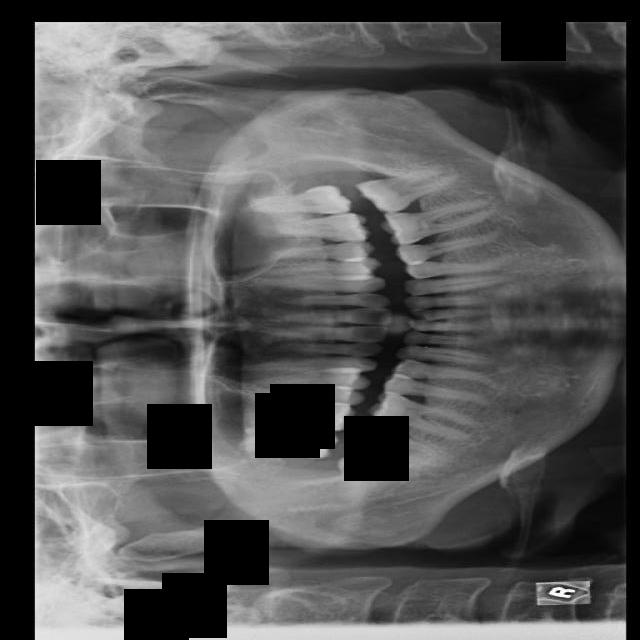52: (342, 411, 403, 472)
73: (551, 54, 564, 58)
BioHorizons Implant: (239, 184, 351, 214)
Blue Sky Bio Implant: (354, 161, 465, 219)
Caries: (230, 429, 339, 462)
Implant: (347, 418, 458, 470)
Keystone Dental Implant: (338, 451, 398, 505)
